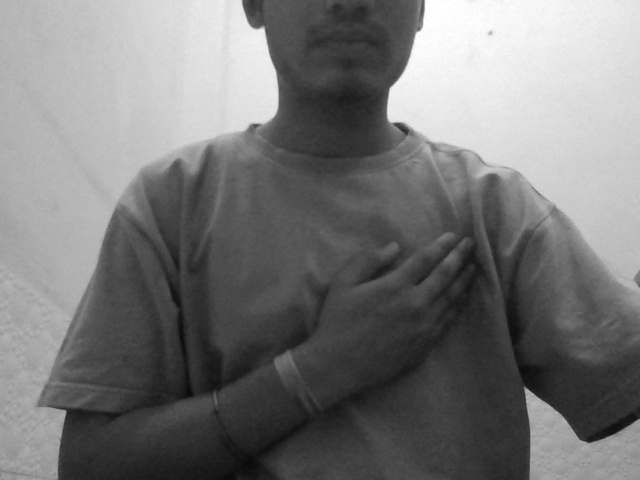Sorry: (262, 210, 509, 377)
